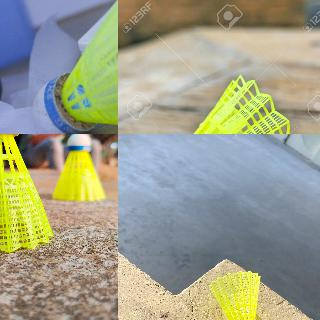shuttlecock: (121, 74, 314, 133), (32, 0, 117, 133), (0, 134, 54, 252), (52, 134, 108, 202), (208, 270, 260, 319)
